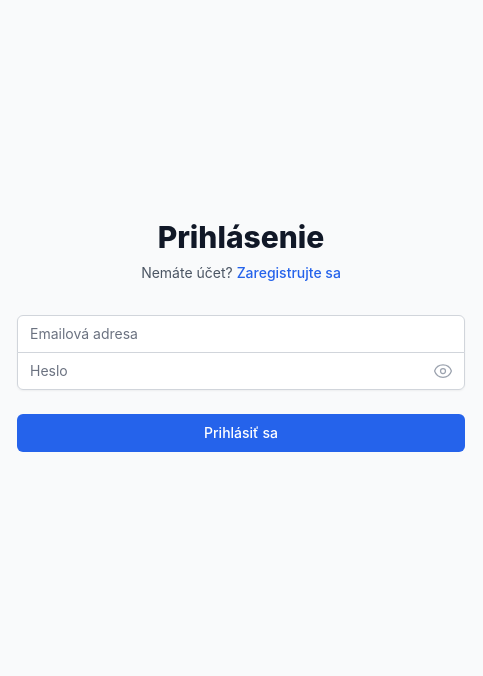
Test: OnboardingWizard › validates required fields on registration form
# Switch to registration
Click the button "Zaregistrujte sa". click: [289, 272]
box: [237,262,341,282]
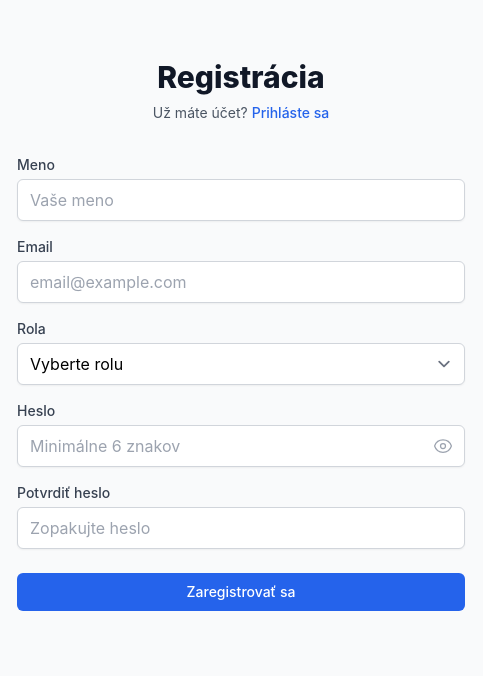
# Submit empty form
Click the button "Zaregistrovať sa". click: [241, 592]
box: [17,573,465,611]
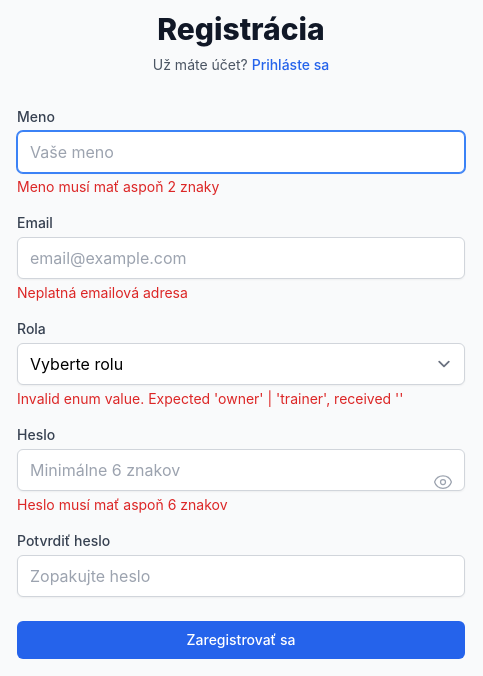
Expected: the text "Meno musí mať aspoň 2 znaky" is shown, [17,178,219,195]
